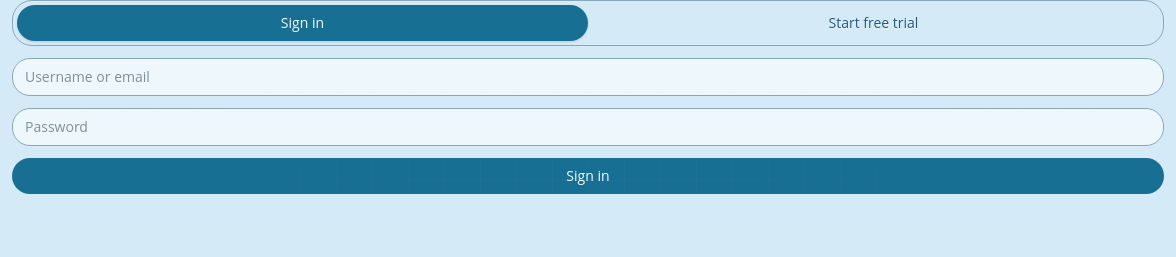
Test: SignInForm › does not enumerate unknown identifiers and does not navigate
Expected: the button "Sign in" is enabled, [12,158,1164,194]
Type "nobody-here" into the field with placeholder "Username or email" at x=588, y=77, box [12,58,1164,96]
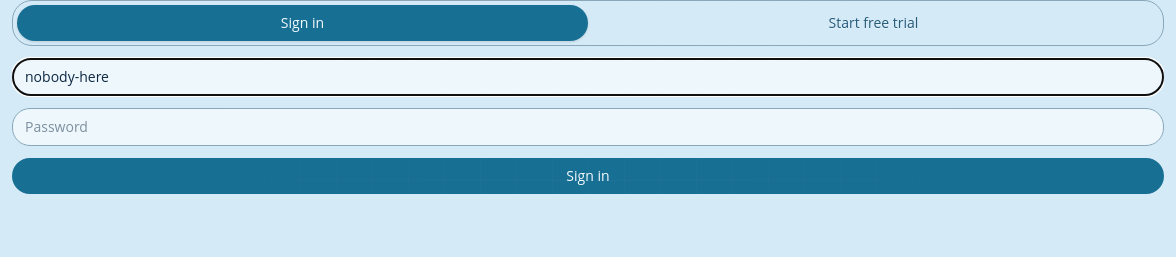
Type "hunter2222" into the password field with placeholder "Password" at x=588, y=127, box [12,108,1164,146]
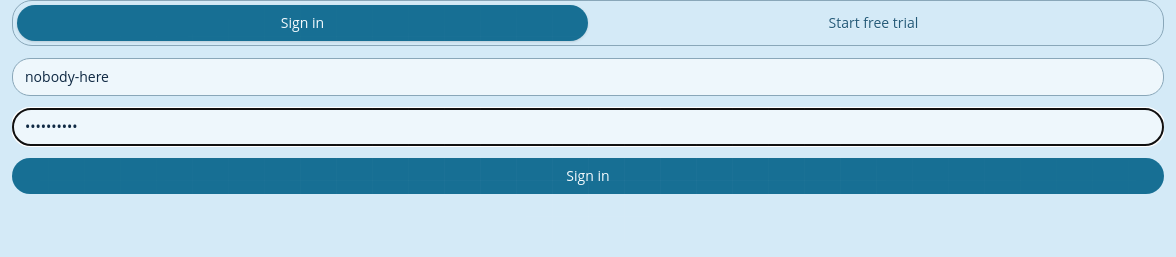
Click the button "Sign in" at x=588, y=176, box [12,158,1164,194]
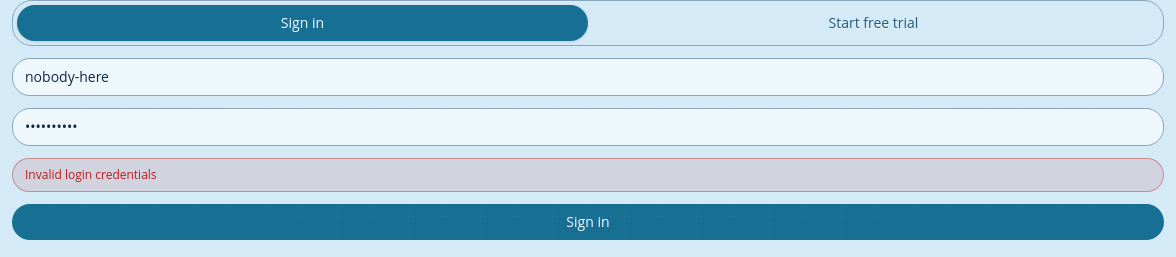
Result: the message reads "Invalid login credentials" at [25,166,157,183]
